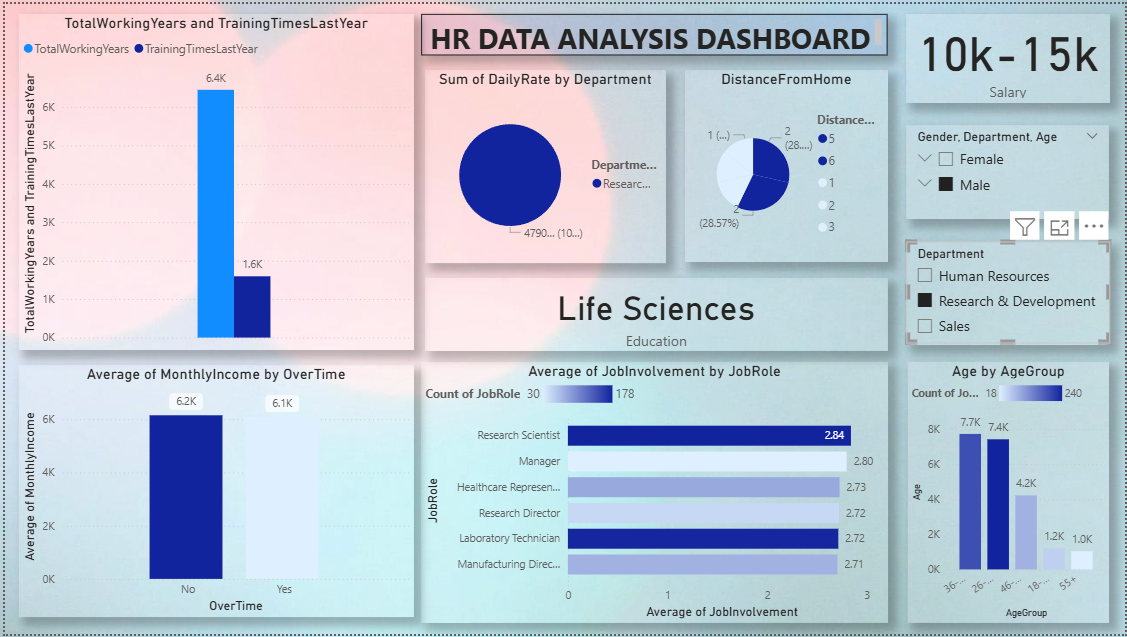

What the dashboard file says about the page in this screenshot:
{"tool":"powerbi","page":{"name":"Page 1","canvas":[1280,720],"ordinal":0},"visuals":[{"type":"columnChart","fields":{"Category":["HR_Analytics.AgeGroup"],"Y":["Sum(HR_Analytics.Age)"]},"box":[1031.9,408.3,230.6,298.6],"z":0},{"type":"lineClusteredColumnComboChart","fields":{"Y":["Avg(HR_Analytics.MonthlyIncome)"],"Category":["HR_Analytics.OverTime"]},"box":[15.1,413,451.5,288.2],"z":1000},{"type":"clusteredBarChart","fields":{"Category":["HR_Analytics.JobRole"],"Y":["Avg(HR_Analytics.JobInvolvement)"]},"box":[476.4,408.3,533.3,298.6],"z":2000},{"type":"clusteredColumnChart","fields":{"Y":["Sum(HR_Analytics.TotalWorkingYears)","Sum(HR_Analytics.TrainingTimesLastYear)"]},"box":[15,11.2,451.2,383.8],"z":4000},{"type":"pieChart","fields":{"Y":["Sum(HR_Analytics.DailyRate)"],"Category":["HR_Analytics.Department"]},"box":[480.6,75,275,220.8],"z":5000},{"type":"textbox","box":[476.2,11.2,532.5,47.5],"z":6000},{"type":"card","fields":{"Values":["Min(HR_Analytics.SalarySlab)"]},"box":[1030,11.2,232.5,101.2],"z":7000},{"type":"card","fields":{"Values":["Min(HR_Analytics.EducationField)"]},"box":[480.6,312.5,529.2,83.3],"z":8000},{"type":"slicer","fields":{"Values":["HR_Analytics.Gender","HR_Analytics.Department","HR_Analytics.Age"]},"box":[1030,138.8,231.2,107.5],"z":9000},{"type":"pieChart","title":"DistanceFromHome","fields":{"Category":["HR_Analytics.DistanceFromHome"],"Y":["CountNonNull(HR_Analytics.EmpID)"]},"box":[777.8,76.4,231.9,219.4],"z":12000},{"type":"slicer","fields":{"Values":["HR_Analytics.Department"]},"box":[1030.6,270.8,231.9,118.1],"z":12001}]}

Visuals, with their boxes in screenshot pixels (x1, y1, x2, y2), scaled from the page's 1280x720 canvas onto the 1127x637 screenshot:
columnChart - HR_Analytics.AgeGroup x Sum(HR_Analytics.Age): {"left": 909, "top": 361, "right": 1112, "bottom": 625}
lineClusteredColumnComboChart - Avg(HR_Analytics.MonthlyIncome) x HR_Analytics.OverTime: {"left": 13, "top": 365, "right": 411, "bottom": 620}
clusteredBarChart - HR_Analytics.JobRole x Avg(HR_Analytics.JobInvolvement): {"left": 419, "top": 361, "right": 889, "bottom": 625}
clusteredColumnChart - Sum(HR_Analytics.TotalWorkingYears) x Sum(HR_Analytics.TrainingTimesLastYear): {"left": 13, "top": 10, "right": 410, "bottom": 349}
pieChart - Sum(HR_Analytics.DailyRate) x HR_Analytics.Department: {"left": 423, "top": 66, "right": 665, "bottom": 262}
textbox: {"left": 419, "top": 10, "right": 888, "bottom": 52}
card - Min(HR_Analytics.SalarySlab): {"left": 907, "top": 10, "right": 1112, "bottom": 99}
card - Min(HR_Analytics.EducationField): {"left": 423, "top": 276, "right": 889, "bottom": 350}
slicer - HR_Analytics.Gender x HR_Analytics.Department: {"left": 907, "top": 123, "right": 1110, "bottom": 218}
"DistanceFromHome" pieChart: {"left": 685, "top": 68, "right": 889, "bottom": 262}
slicer - HR_Analytics.Department: {"left": 907, "top": 240, "right": 1112, "bottom": 344}
